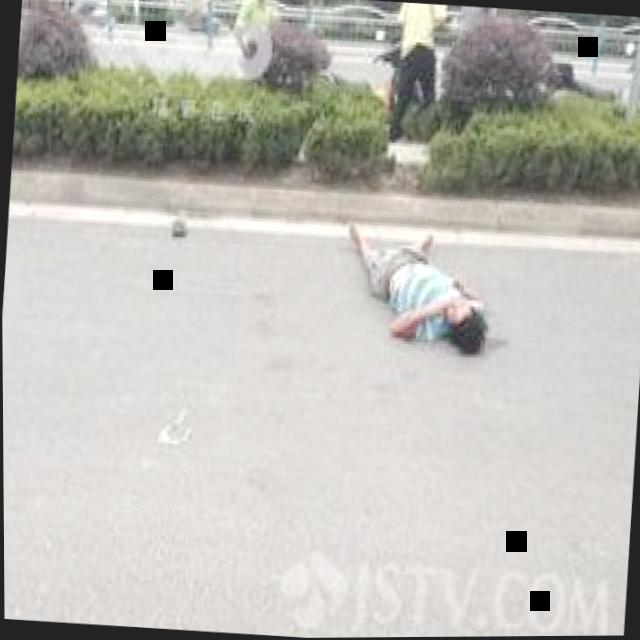Fall-Detected: (322, 201, 505, 357)
